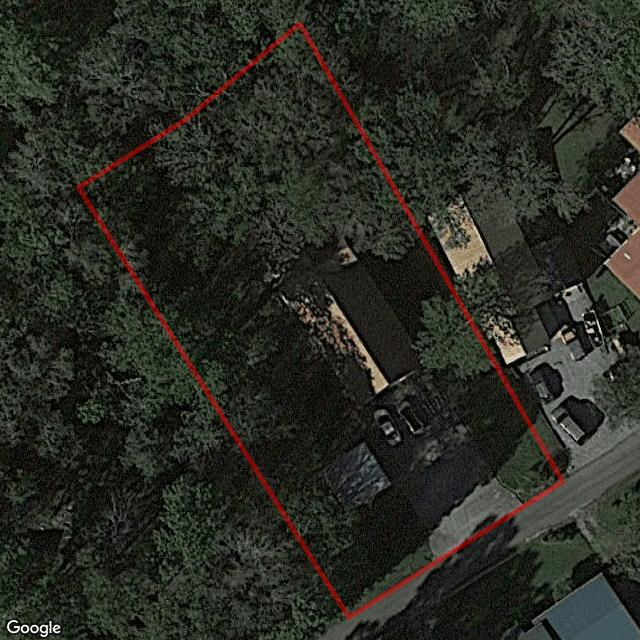Driveway: (362, 374, 522, 559)
House: (273, 244, 431, 415), (320, 443, 391, 511)
